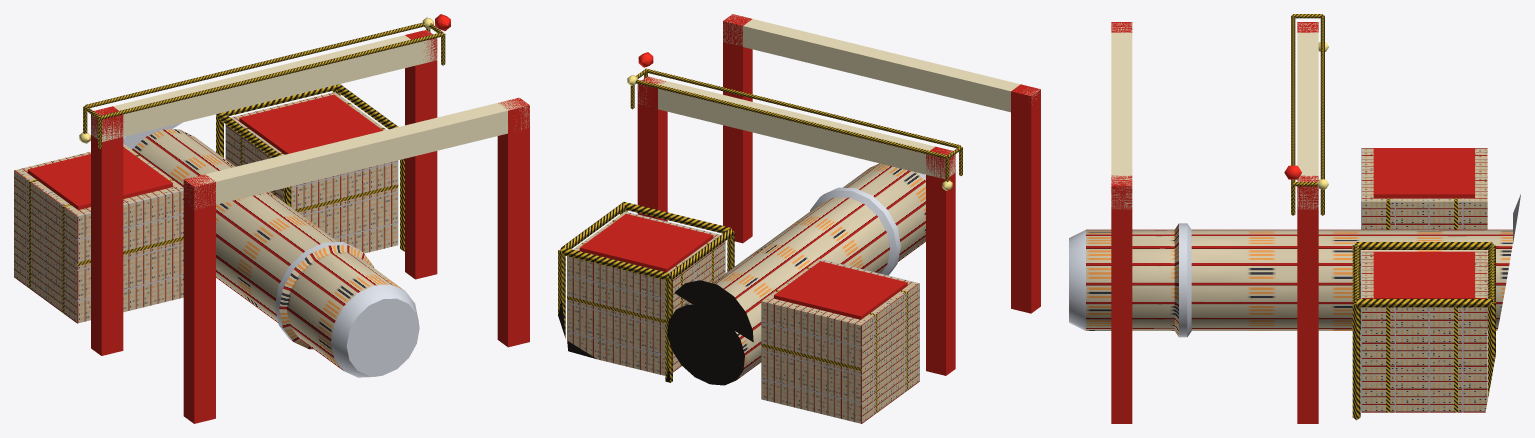
The model's file is manufacturing_center_build3_debris2.obj.
The picture shows the model from 3 angles, left to right: view 1: azimuth 30°, elevation 25°; view 2: azimuth 150°, elevation 25°; view 3: azimuth 270°, elevation 25°; orthographic projection. The views are drawn at different scales.
Parts seen in each view (by area): view 1: gantry_leg, spine, cargo_bay, gantry_beam, bay_door, girder; view 2: cargo_bay, gantry_leg, spine, gantry_beam, bay_door, girder, smelter2; view 3: spine, cargo_bay, gantry_leg, bay_door, gantry_beam, girder.
Part boxes in pixels (<box>): gantry_leg: <box>91,29,529,423</box>; spine: <box>132,129,419,377</box>; cargo_bay: <box>14,92,398,323</box>; gantry_beam: <box>91,30,529,208</box>; bay_door: <box>27,94,382,209</box>; girder: <box>83,22,445,251</box>; cargo_bay: <box>567,211,919,423</box>; gantry_leg: <box>637,14,1040,375</box>; spine: <box>667,163,925,385</box>; gantry_beam: <box>637,14,1040,179</box>; bay_door: <box>579,214,907,319</box>; girder: <box>558,68,962,382</box>; smelter2: <box>675,280,753,342</box>; spine: <box>1069,223,1512,337</box>; cargo_bay: <box>1361,148,1487,412</box>; gantry_leg: <box>1111,22,1318,423</box>; bay_door: <box>1373,148,1474,298</box>; gantry_beam: <box>1111,22,1318,209</box>; girder: <box>1291,14,1495,420</box>.
Bounding box in the file's own units: 96.73 × 67.87 × 107.
8 materials, 2 textured.
